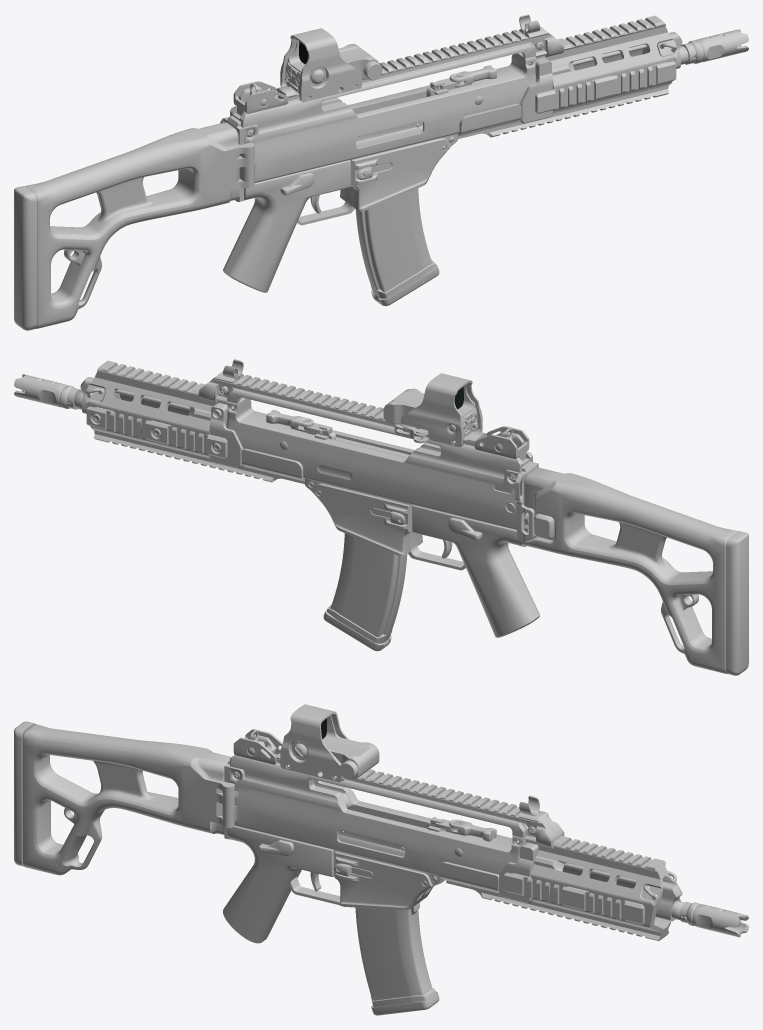
3 renders of one model, top to bottom at view 1: azimuth 30°, elevation 25°; view 2: azimuth 150°, elevation 25°; view 3: azimuth 330°, elevation 25°, orthographic.
Parts seen in each view (by area): view 1: Holger26; view 2: Holger26; view 3: Holger26.
Boxes of the visible parts, left/top/right/bottom form: Holger26: left=14, top=14, right=748, bottom=330; Holger26: left=14, top=359, right=748, bottom=675; Holger26: left=14, top=704, right=748, bottom=1015.
Size of the model in its own units: 52.86 by 19.75 by 4.23.
